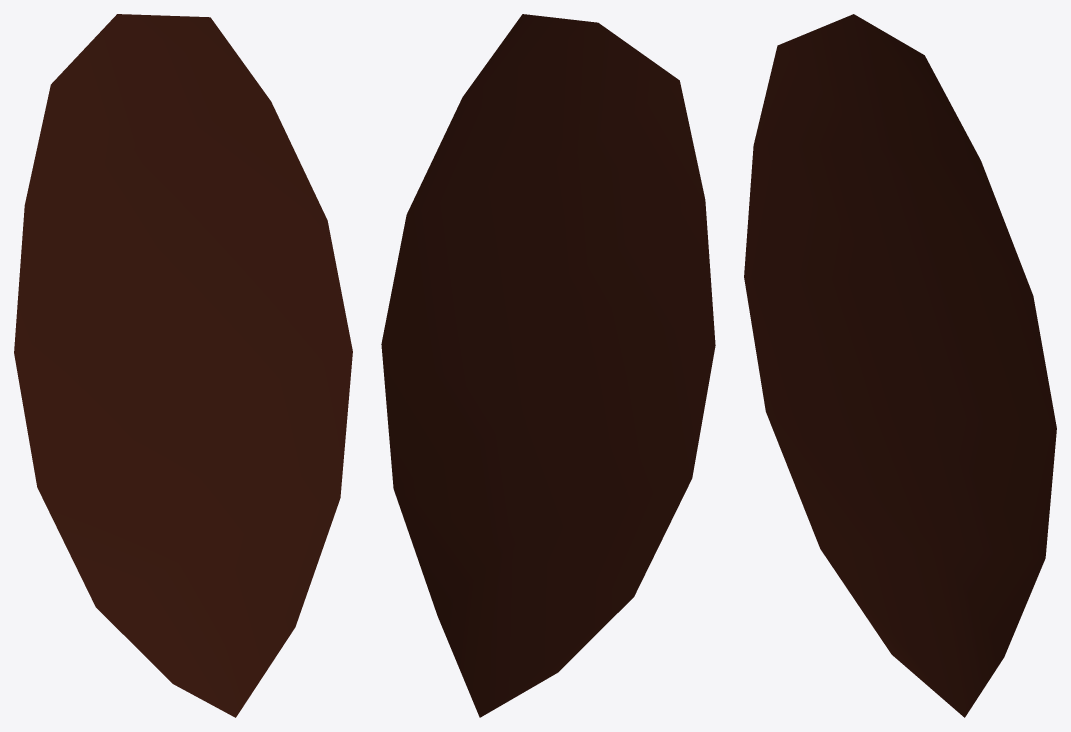
The model's file is rooster_feather_flight_tertiary_046.obj.
3 views of the same model, side by side, from view 1: azimuth 30°, elevation 25°; view 2: azimuth 150°, elevation 25°; view 3: azimuth 330°, elevation 25° (orthographic). The views are drawn at different scales.
Visible parts, largest first — view 1: feather_flight_tertiary_046; view 2: feather_flight_tertiary_046; view 3: feather_flight_tertiary_046.
Part boxes in pixels (x1,y1,x2,y2): feather_flight_tertiary_046: (14, 14, 352, 717); feather_flight_tertiary_046: (381, 14, 715, 717); feather_flight_tertiary_046: (744, 14, 1056, 717).
Size of the model in its own units: 0.012 by 0.0247 by 0.00055.
